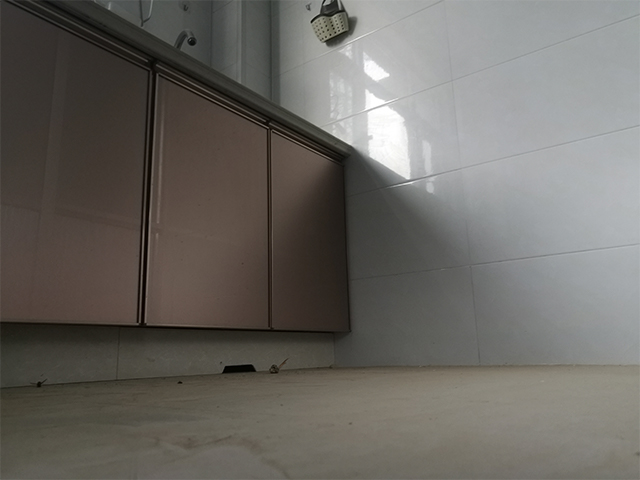cabinet: (1, 1, 353, 388)
